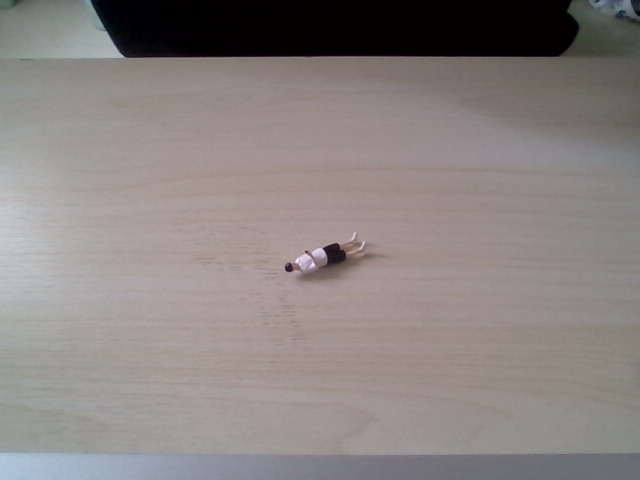fall: (278, 224, 370, 283)
